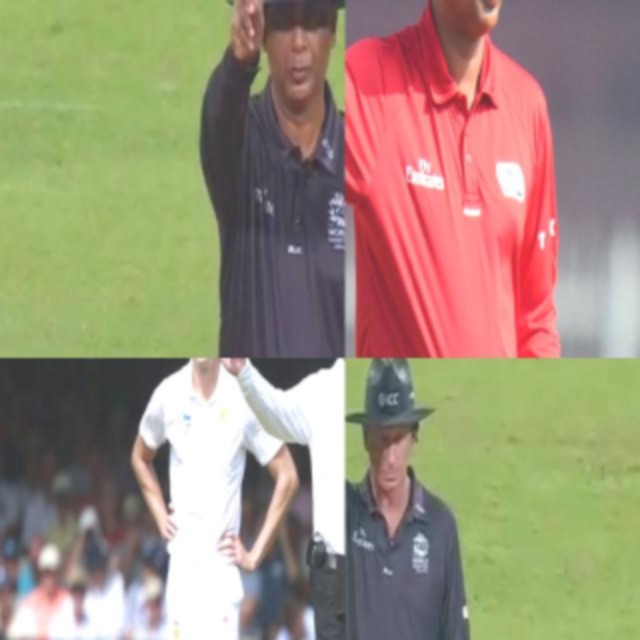No_Ball: (345, 0, 590, 358), (187, 358, 345, 640)
Out: (186, 0, 345, 358), (345, 358, 489, 640)
